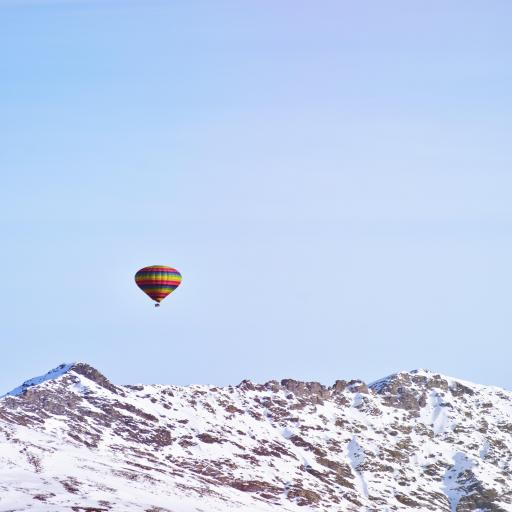hot air ballon: (127, 259, 184, 311)
